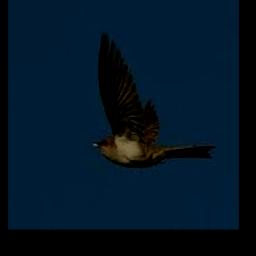Cuckoo: (92, 31, 216, 166)
